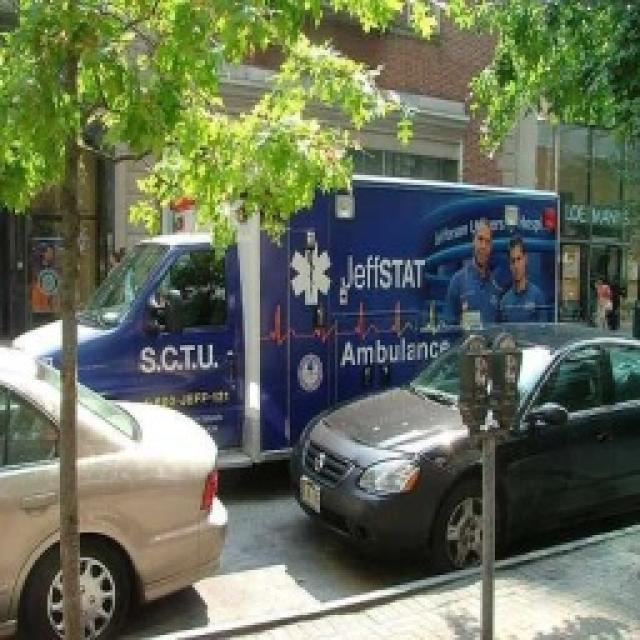emergency-vehicle: (0, 156, 598, 506)
